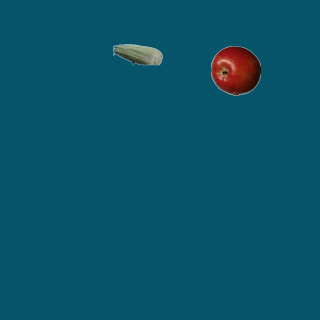Apple Braeburn: (210, 45, 260, 95)
Corn Husk: (112, 29, 162, 79)
